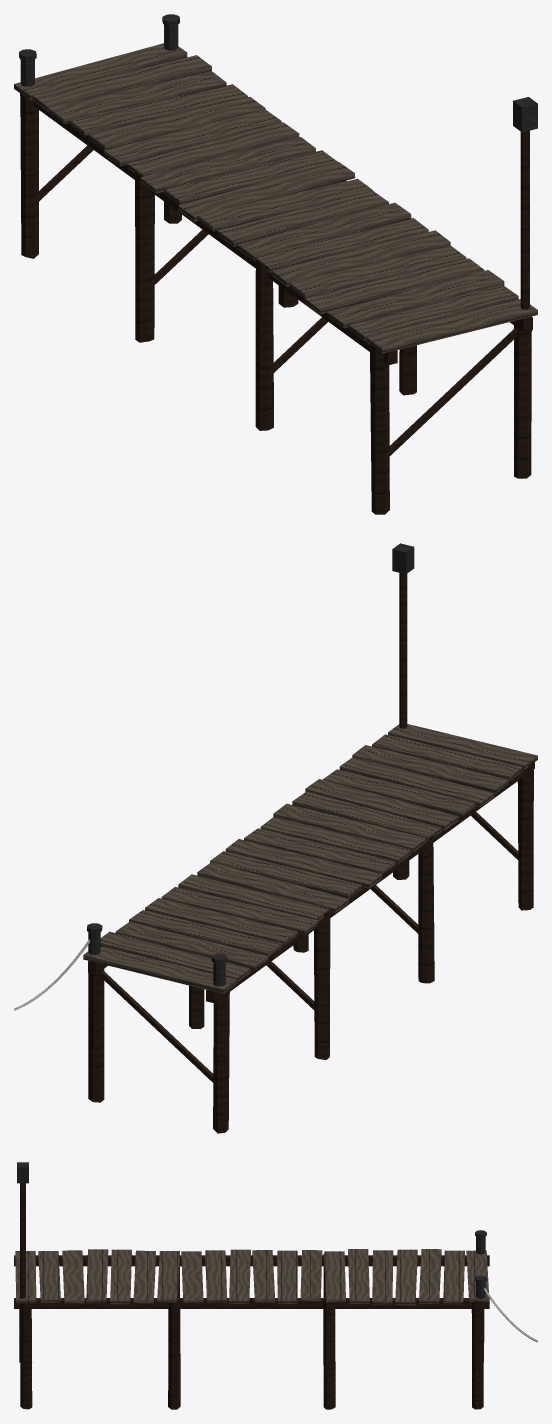
Rendered from pier.glb.
3 views of the same model, one above another, from view 1: azimuth 30°, elevation 25°; view 2: azimuth 150°, elevation 25°; view 3: azimuth 270°, elevation 25° (orthographic). The views are drawn at different scales.
Visible parts, largest first — view 1: pier; view 2: pier; view 3: pier.
Boxes of the visible parts, x1=… form: pier: x1=14, y1=14, x2=537, y2=514; pier: x1=14, y1=543, x2=537, y2=1133; pier: x1=14, y1=1162, x2=537, y2=1409.
Size of what is drawn, in the model's own units: 2.57 by 4.51 by 8.81.
Materials: 5 (4 with a texture image).
